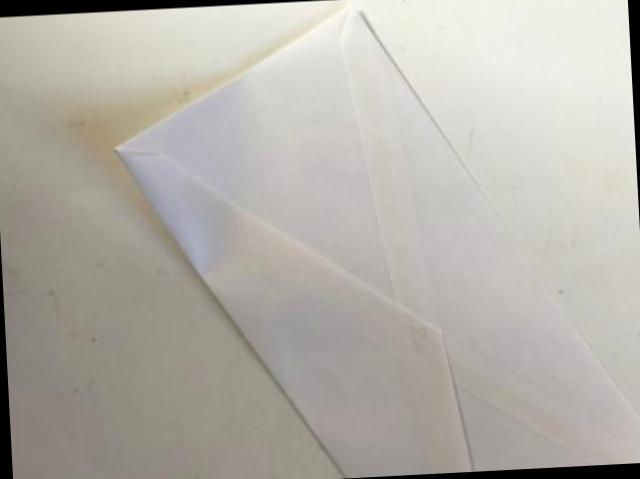cardboard paper: (118, 7, 640, 478)
